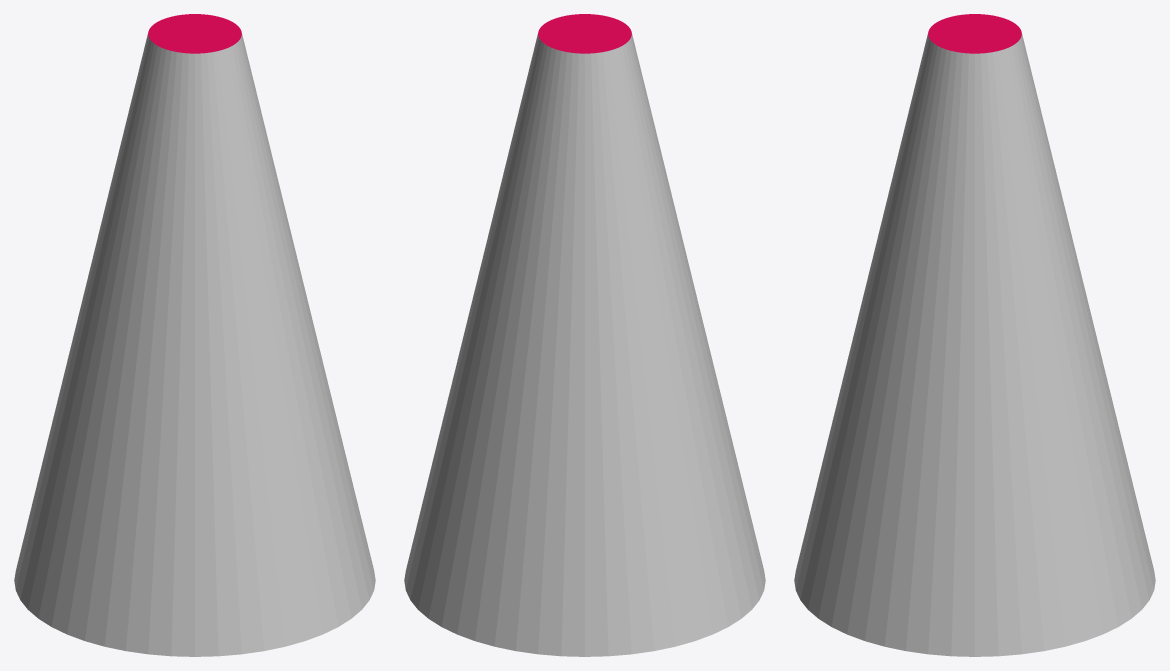
Rendered from coneblend.fbx.
The picture shows the model from 3 angles, left to right: view 1: azimuth 30°, elevation 25°; view 2: azimuth 150°, elevation 25°; view 3: azimuth 270°, elevation 25°; orthographic projection.
Visible parts, largest first — view 1: Cylinder; view 2: Cylinder; view 3: Cylinder.
Part boxes in pixels (x1=…): Cylinder: x1=14, y1=14, x2=375, y2=656; Cylinder: x1=404, y1=14, x2=765, y2=656; Cylinder: x1=794, y1=14, x2=1155, y2=656.
Bounding box in the file's own units: 200 × 334 × 200.
